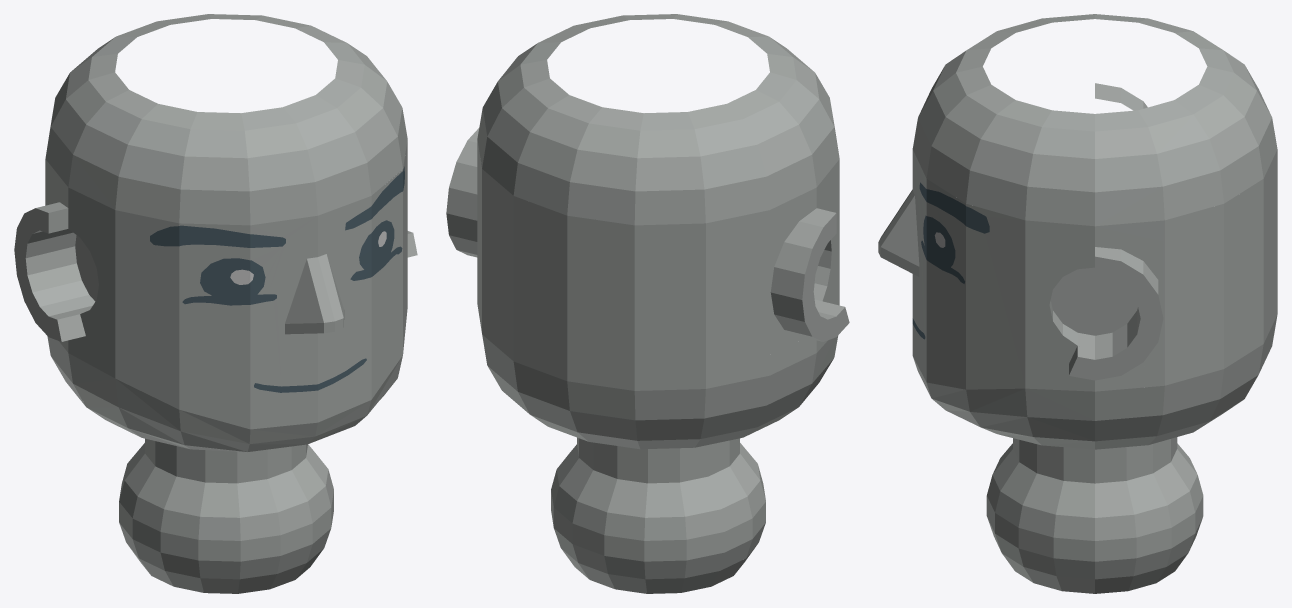
3 renders of one model, left to right at view 1: azimuth 30°, elevation 25°; view 2: azimuth 150°, elevation 25°; view 3: azimuth 270°, elevation 25°, orthographic.
Parts seen in each view (by area): view 1: world; view 2: world; view 3: world.
Part boxes in pixels (left/top/right/bottom): world: left=14, top=14, right=417, bottom=593; world: left=446, top=14, right=849, bottom=593; world: left=878, top=14, right=1277, bottom=593.
Bounding box in the file's own units: 0.0144 × 0.019 × 0.014.
